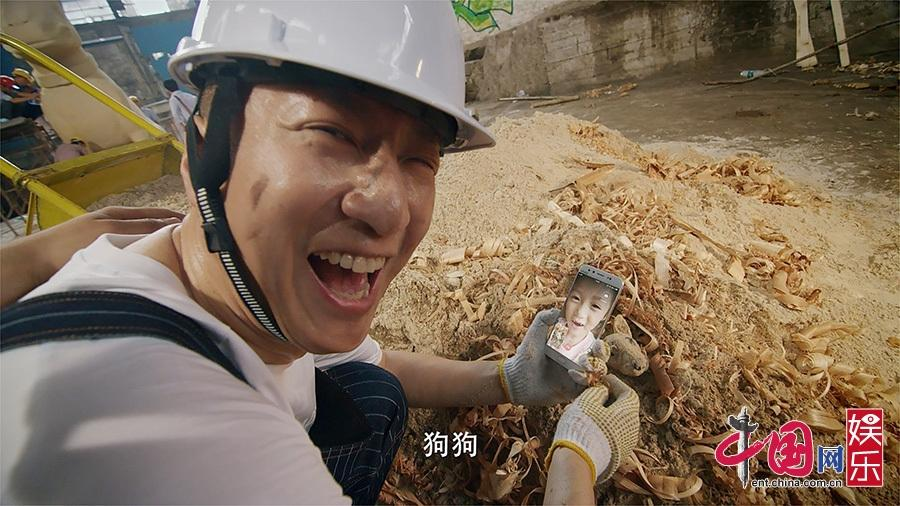helmet: (160, 0, 506, 153)
